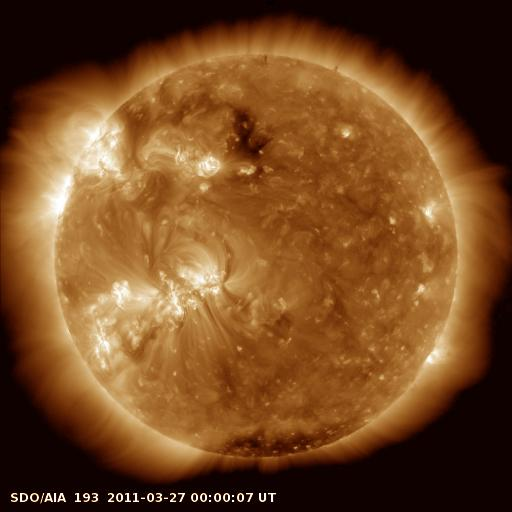coronal_hole: (202, 424, 365, 461), (219, 103, 279, 168)
